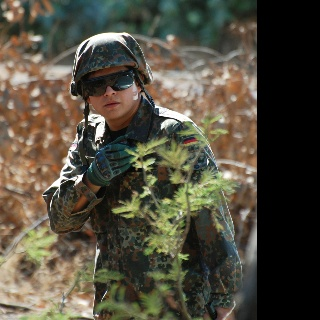without_mask: (90, 69, 137, 119)
